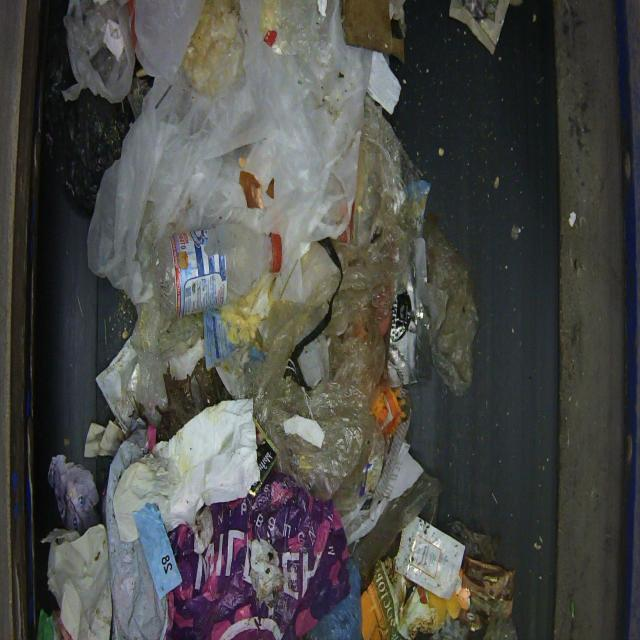other-trash: (34, 0, 517, 638)
